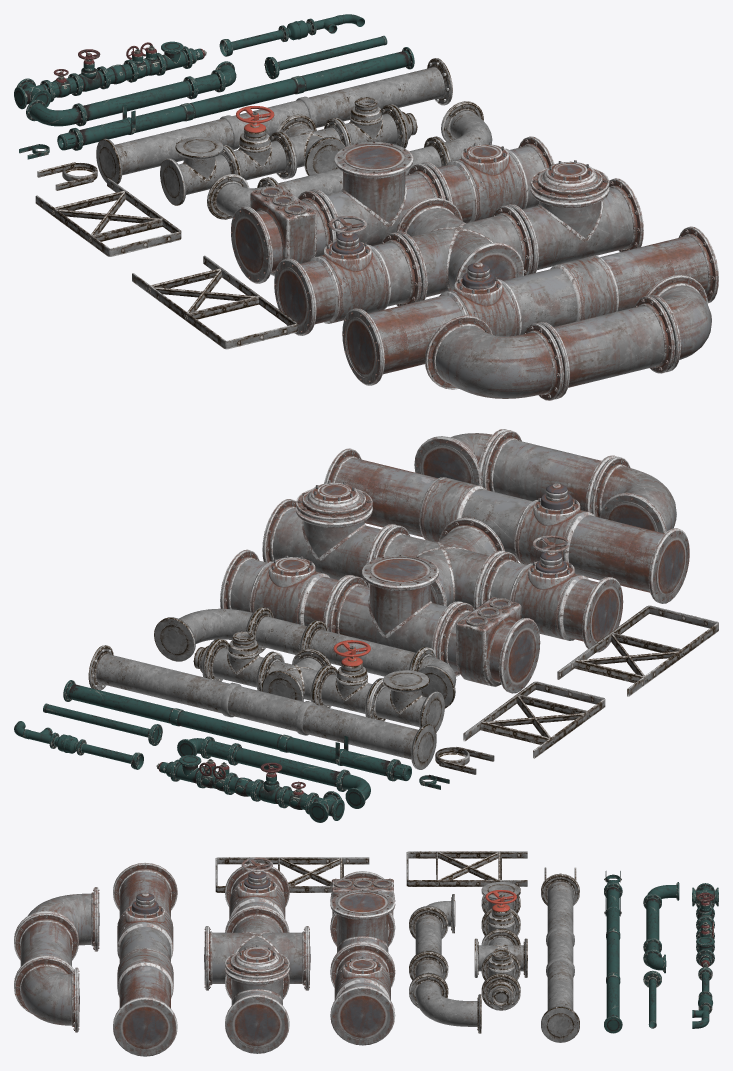
Rendered from tubulacoes_industriais.glb.
3 views of the same model, one above another, from view 1: azimuth 30°, elevation 25°; view 2: azimuth 150°, elevation 25°; view 3: azimuth 270°, elevation 25° (orthographic). The views are drawn at different scales.
Parts seen in each view (by area): view 1: ind_pipe_large_01_long_01_inst_001, ind_pipe_large_01_valve_01_inst_001, ind_pipe_large_01_crossing_03_inst_001_ind_pipe_large_01_mt_, ind_pipe_medium_01_long_inst_001, ind_pipe_large_01_corner_02_inst_001, ind_pipe_large_01_crossing_01_inst_001_ind_pipe_large_01_mt_, ind_pipe_large_01_base_01_inst_001, ind_pipe_large_01_crossing_02_inst_001_ind_pipe_large_01_mt_, ind_pipe_large_01_crossing_05_inst_001_ind_pipe_large_01_mt_, ind_pipe_large_01_crossing_04_inst_001_ind_pipe_large_01_mt_, ind_pipe_small_01_long_inst_001, ind_pipe_large_01_frame_01_inst_001 (+21 smaller); view 2: ind_pipe_large_01_long_01_inst_001, ind_pipe_medium_01_long_inst_001, ind_pipe_large_01_valve_01_inst_001, ind_pipe_large_01_crossing_02_inst_001_ind_pipe_large_01_mt_, ind_pipe_large_01_crossing_03_inst_001_ind_pipe_large_01_mt_, ind_pipe_large_01_crossing_05_inst_001_ind_pipe_large_01_mt_, ind_pipe_large_01_crossing_04_inst_001_ind_pipe_large_01_mt_, ind_pipe_large_01_crossing_01_inst_001_ind_pipe_large_01_mt_, ind_pipe_large_01_base_01_inst_001, ind_pipe_small_01_long_inst_001, ind_pipe_large_01_corner_02_inst_001, ind_pipe_large_01_frame_01_inst_001 (+21 smaller); view 3: ind_pipe_large_01_long_01_inst_001, ind_pipe_large_01_crossing_03_inst_001_ind_pipe_large_01_mt_, ind_pipe_large_01_crossing_04_inst_001_ind_pipe_large_01_mt_, ind_pipe_medium_01_long_inst_001, ind_pipe_large_01_crossing_01_inst_001_ind_pipe_large_01_mt_, ind_pipe_large_01_corner_01_inst_001, ind_pipe_large_01_crossing_02_inst_001_ind_pipe_large_01_mt_, ind_pipe_large_01_valve_01_inst_001, ind_pipe_large_01_base_01_inst_001, ind_pipe_medium_01_frame_01_inst_001, ind_pipe_medium_01_corner_02_inst_001_ind_pipe_medium_01_mt_, ind_pipe_large_01_frame_01_inst_001 (+18 smaller).
Part boxes in pixels (x1,y1,x2,y2): ind_pipe_large_01_long_01_inst_001: (342, 226, 718, 385); ind_pipe_large_01_valve_01_inst_001: (274, 216, 421, 335); ind_pipe_large_01_crossing_03_inst_001_ind_pipe_large_01_mt_: (506, 160, 643, 273); ind_pipe_medium_01_long_inst_001: (96, 58, 452, 184); ind_pipe_large_01_corner_02_inst_001: (424, 315, 563, 400); ind_pipe_large_01_crossing_01_inst_001_ind_pipe_large_01_mt_: (395, 197, 532, 301); ind_pipe_large_01_base_01_inst_001: (537, 296, 674, 399); ind_pipe_large_01_crossing_02_inst_001_ind_pipe_large_01_mt_: (309, 142, 445, 245); ind_pipe_large_01_crossing_05_inst_001_ind_pipe_large_01_mt_: (231, 185, 336, 283); ind_pipe_large_01_crossing_04_inst_001_ind_pipe_large_01_mt_: (421, 136, 554, 222); ind_pipe_small_01_long_inst_001: (71, 47, 414, 149); ind_pipe_large_01_frame_01_inst_001: (132, 255, 297, 349); ind_pipe_large_01_long_01_inst_001: (324, 448, 689, 603); ind_pipe_medium_01_long_inst_001: (88, 645, 436, 769); ind_pipe_large_01_valve_01_inst_001: (479, 535, 623, 652); ind_pipe_large_01_crossing_02_inst_001_ind_pipe_large_01_mt_: (328, 555, 462, 658); ind_pipe_large_01_crossing_03_inst_001_ind_pipe_large_01_mt_: (262, 481, 396, 587); ind_pipe_large_01_crossing_05_inst_001_ind_pipe_large_01_mt_: (437, 597, 540, 693); ind_pipe_large_01_crossing_04_inst_001_ind_pipe_large_01_mt_: (220, 549, 354, 631); ind_pipe_large_01_crossing_01_inst_001_ind_pipe_large_01_mt_: (373, 517, 505, 609); ind_pipe_large_01_base_01_inst_001: (482, 430, 617, 512); ind_pipe_small_01_long_inst_001: (63, 680, 399, 780); ind_pipe_large_01_corner_02_inst_001: (591, 456, 676, 533); ind_pipe_large_01_frame_01_inst_001: (557, 605, 718, 696); ind_pipe_large_01_long_01_inst_001: (113, 862, 177, 1056); ind_pipe_large_01_crossing_03_inst_001_ind_pipe_large_01_mt_: (225, 945, 289, 1053); ind_pipe_large_01_crossing_04_inst_001_ind_pipe_large_01_mt_: (330, 943, 395, 1045); ind_pipe_medium_01_long_inst_001: (541, 873, 579, 1042); ind_pipe_large_01_crossing_01_inst_001_ind_pipe_large_01_mt_: (204, 907, 310, 990); ind_pipe_large_01_corner_01_inst_001: (14, 957, 79, 1032); ind_pipe_large_01_crossing_02_inst_001_ind_pipe_large_01_mt_: (330, 889, 395, 971); ind_pipe_large_01_valve_01_inst_001: (225, 857, 289, 931); ind_pipe_large_01_base_01_inst_001: (14, 913, 78, 985); ind_pipe_medium_01_frame_01_inst_001: (406, 851, 527, 886); ind_pipe_medium_01_corner_02_inst_001_ind_pipe_medium_01_mt_: (409, 974, 481, 1033); ind_pipe_large_01_frame_01_inst_001: (215, 857, 369, 892).
Size of the model in its own units: 7.83 by 1.67 by 13.37.
Materials: 4 (3 with a texture image).
